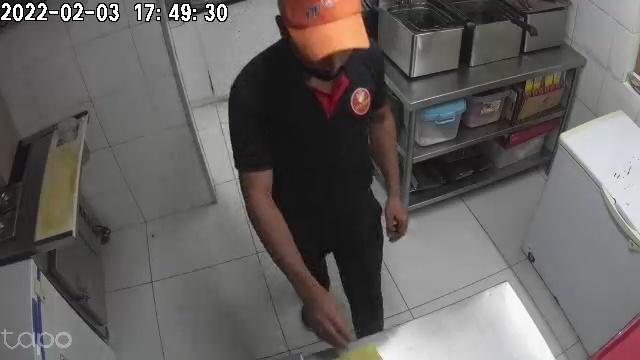no_gloves: (296, 281, 351, 349), (387, 184, 408, 243)
